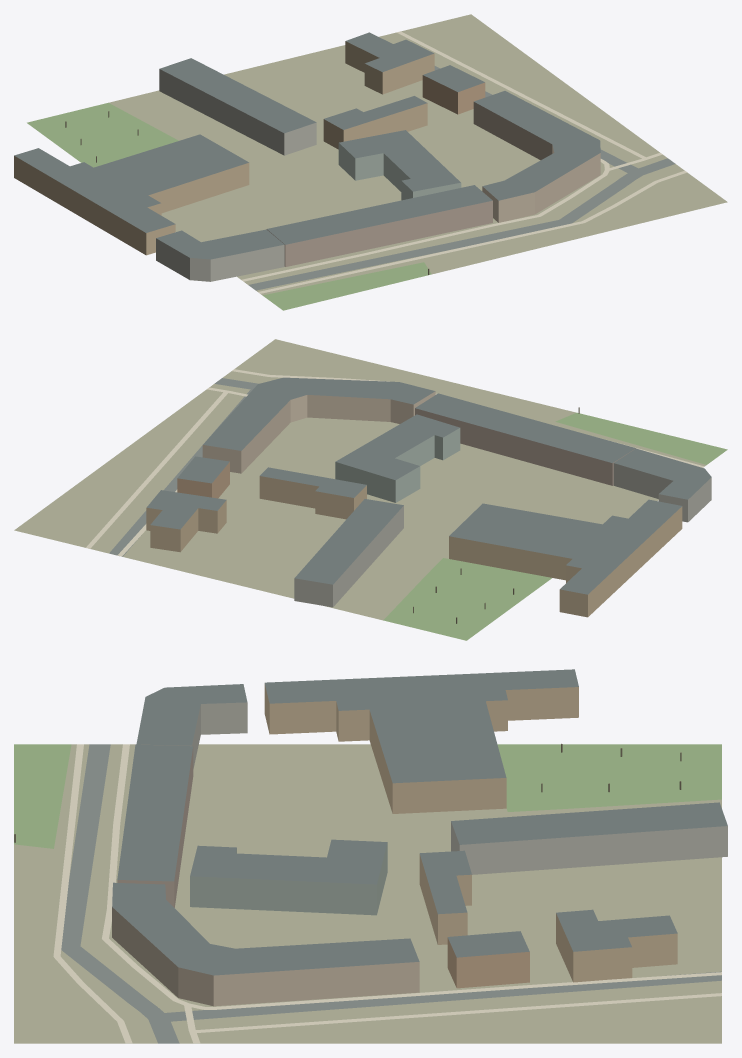
File: sector-1_-1.glb
3 views of the same model, one above another, from view 1: azimuth 30°, elevation 25°; view 2: azimuth 150°, elevation 25°; view 3: azimuth 270°, elevation 25° (orthographic). The views are drawn at different scales.
Parts seen in each view (by area): view 1: 1:-1-ground, 1:-1-roof, 1:-1-facade, 1:-1-park, 1:-1-road, 1:-1-paving; view 2: 1:-1-ground, 1:-1-roof, 1:-1-facade, 1:-1-park, 1:-1-paving, 1:-1-road; view 3: 1:-1-ground, 1:-1-roof, 1:-1-facade, 1:-1-park, 1:-1-road, 1:-1-paving.
Boxes of the visible parts, x1=… form: 1:-1-ground: x1=109, y1=14, x2=727, y2=295; 1:-1-roof: x1=14, y1=32, x2=600, y2=259; 1:-1-facade: x1=14, y1=41, x2=600, y2=281; 1:-1-park: x1=27, y1=102, x2=431, y2=310; 1:-1-road: x1=248, y1=66, x2=675, y2=290; 1:-1-paving: x1=241, y1=31, x2=687, y2=293; 1:-1-ground: x1=14, y1=339, x2=706, y2=620; 1:-1-roof: x1=147, y1=377, x2=711, y2=594; 1:-1-facade: x1=146, y1=391, x2=711, y2=617; 1:-1-park: x1=383, y1=412, x2=727, y2=640; 1:-1-paving: x1=86, y1=369, x2=704, y2=556; 1:-1-road: x1=109, y1=378, x2=258, y2=556; 1:-1-ground: x1=14, y1=744, x2=721, y2=1043; 1:-1-roof: x1=112, y1=669, x2=727, y2=975; 1:-1-facade: x1=112, y1=684, x2=727, y2=1006; 1:-1-park: x1=14, y1=744, x2=721, y2=848; 1:-1-road: x1=61, y1=744, x2=721, y2=1043; 1:-1-paving: x1=53, y1=744, x2=721, y2=1043.
Bounding box in the file's own units: 230 × 9.6 × 202.
